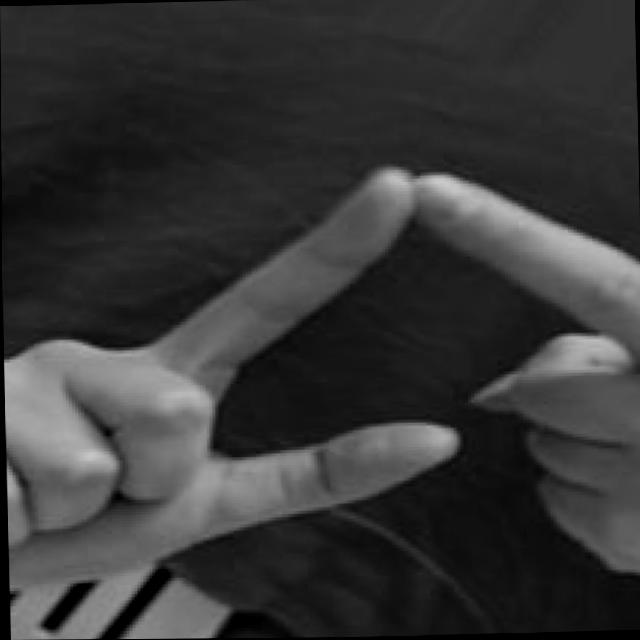J: (1, 126, 640, 593)
